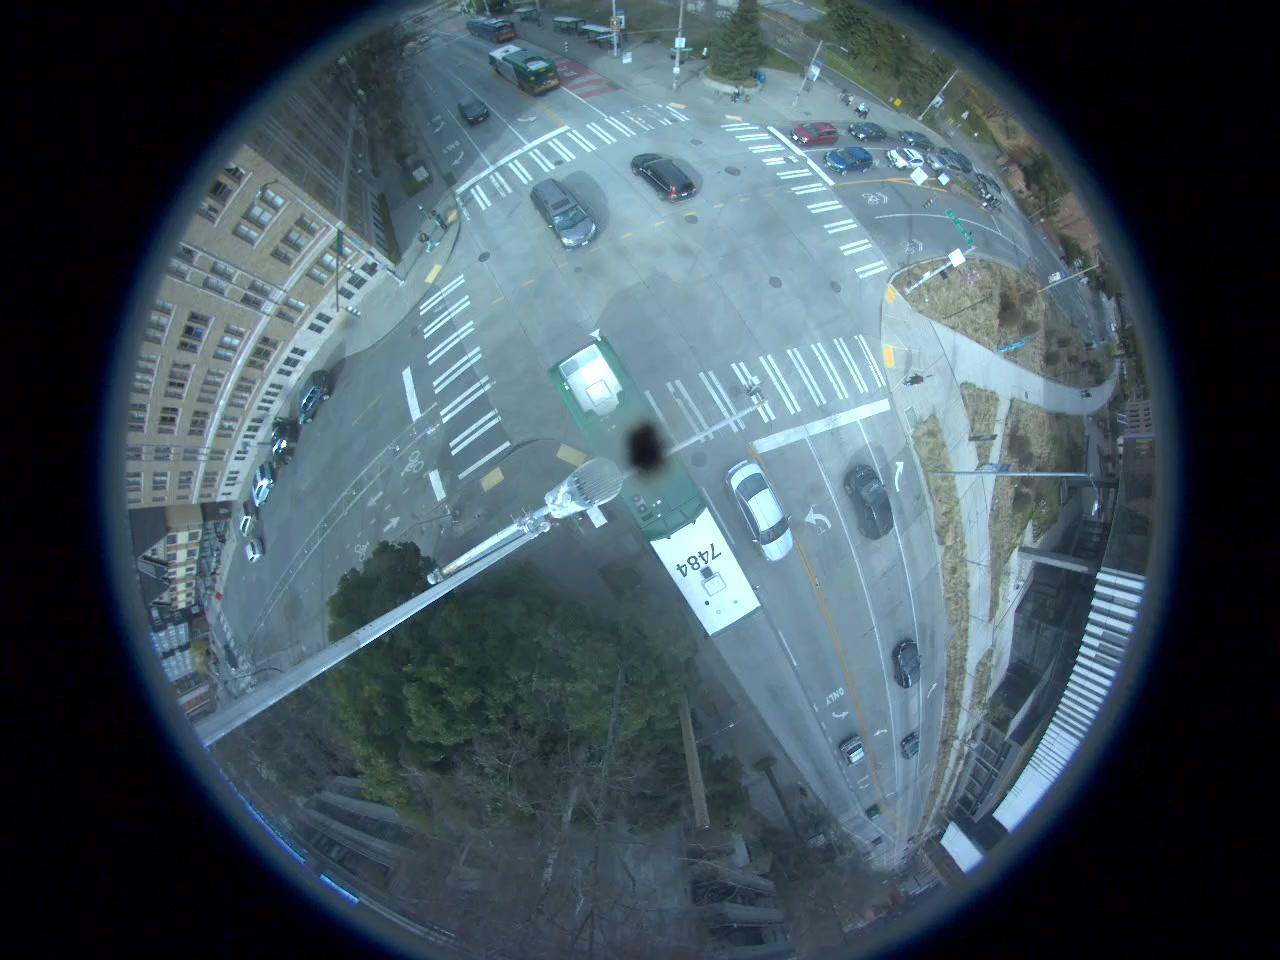bus: (549, 336, 760, 637), (490, 44, 563, 94), (462, 16, 518, 41)
car: (730, 461, 799, 562), (531, 180, 597, 249), (846, 462, 897, 540), (630, 152, 696, 202), (298, 371, 330, 425), (826, 146, 870, 178), (892, 638, 918, 689), (884, 146, 924, 172), (457, 96, 491, 126), (847, 120, 889, 144), (792, 124, 836, 146), (274, 420, 297, 462), (250, 462, 274, 501), (926, 152, 964, 175), (896, 126, 934, 148), (839, 736, 866, 766), (238, 501, 257, 538), (900, 732, 920, 758), (246, 541, 265, 564)
person: (414, 230, 439, 255), (902, 371, 928, 389), (428, 210, 447, 233), (732, 84, 742, 103), (839, 86, 849, 104), (846, 94, 856, 110), (856, 100, 864, 116), (864, 106, 871, 119)
